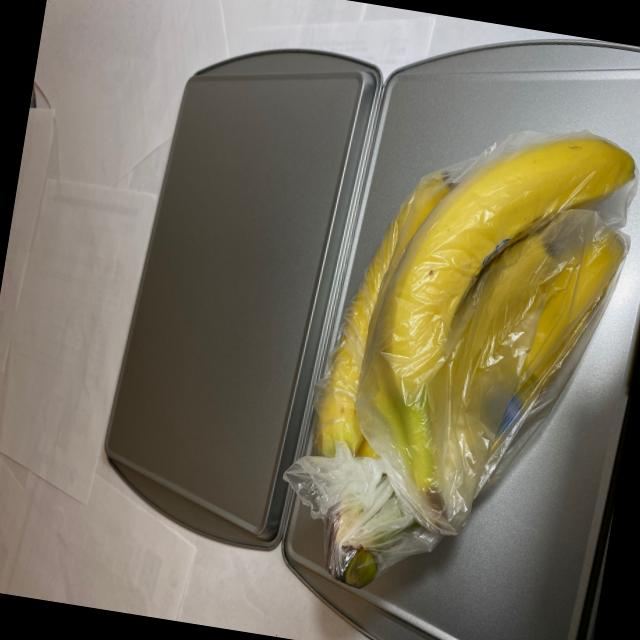banana: (285, 96, 640, 631)
